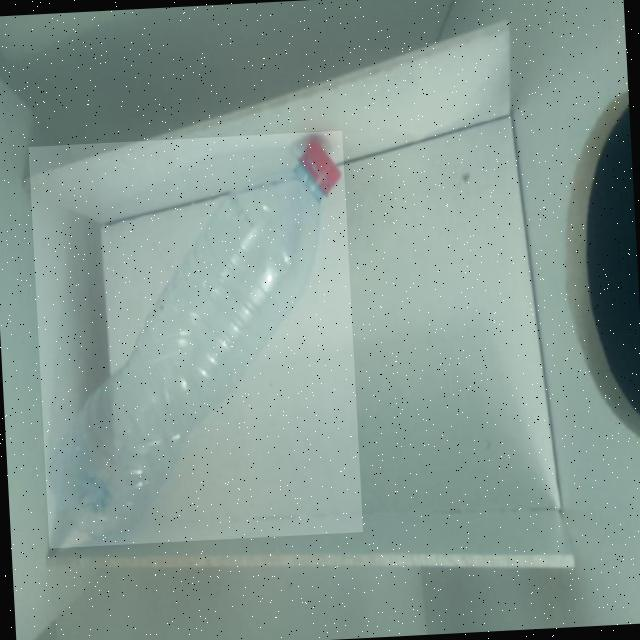bottle: (29, 131, 364, 549)
cap: (290, 132, 348, 200)
